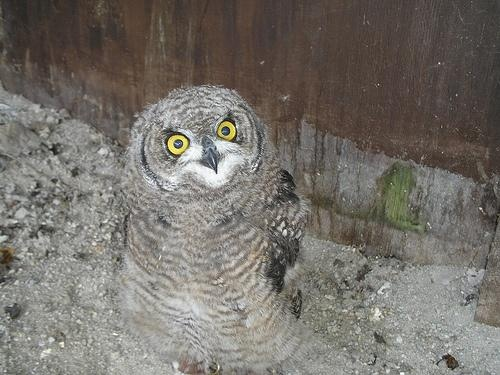bird: (114, 84, 316, 375)
